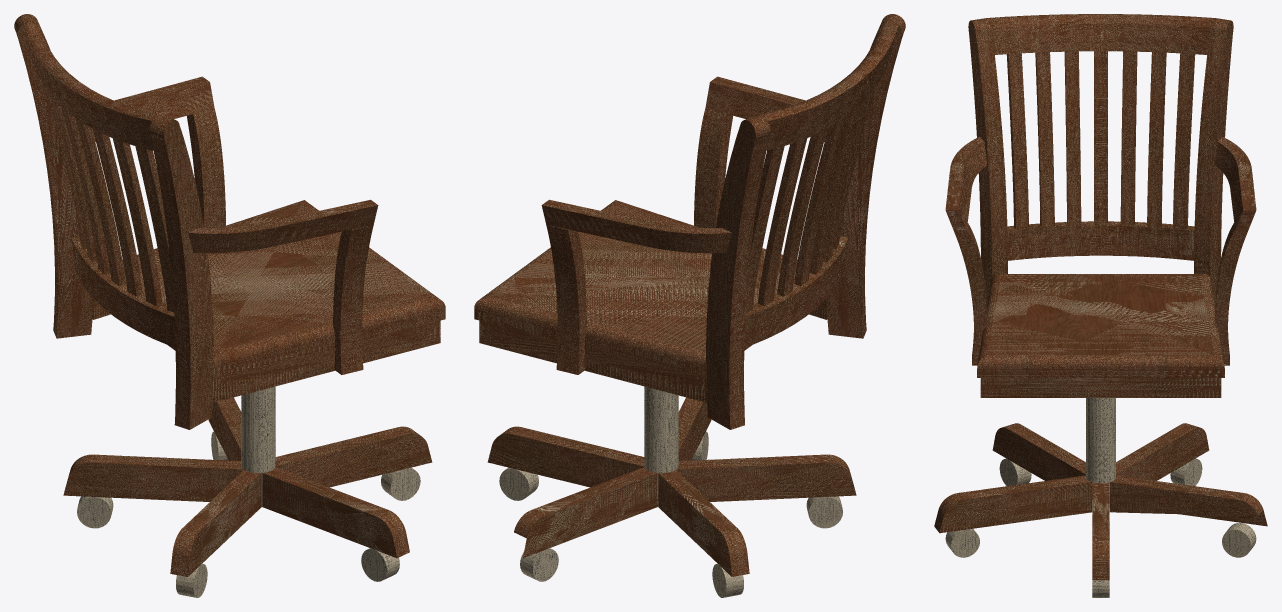
The picture shows the model from 3 angles, left to right: view 1: azimuth 30°, elevation 25°; view 2: azimuth 150°, elevation 25°; view 3: azimuth 270°, elevation 25°; orthographic projection. The views are drawn at different scales.
Visible parts, largest first — view 1: mesh16.001_mesh16-geometry, mesh15.001_mesh15-geometry, mesh3.007_mesh3-geometry, mesh20.001_mesh20-geometry, mesh3.008_mesh3-geometry, mesh3.009_mesh3-geometry, mesh9.001_mesh9-geometry, mesh6.001_mesh6-geometry, mesh8.001_mesh8-geometry, mesh3.010_mesh3-geometry, mesh2.001_mesh2-geometry, mesh10.001_mesh10-geometry (+15 smaller); view 2: mesh16.001_mesh16-geometry, mesh20.001_mesh20-geometry, mesh3.010_mesh3-geometry, mesh15.001_mesh15-geometry, mesh3.006_mesh3-geometry, mesh3.009_mesh3-geometry, mesh9.001_mesh9-geometry, mesh11.001_mesh11-geometry, mesh13.001_mesh13-geometry, mesh3.007_mesh3-geometry, mesh14.001_mesh14-geometry, mesh10.001_mesh10-geometry (+15 smaller); view 3: mesh16.001_mesh16-geometry, mesh9.001_mesh9-geometry, mesh20.001_mesh20-geometry, mesh15.001_mesh15-geometry, mesh10.001_mesh10-geometry, mesh3.008_mesh3-geometry, mesh3.006_mesh3-geometry, mesh19.001_mesh19-geometry, mesh3.010_mesh3-geometry, mesh3.007_mesh3-geometry, mesh1.003_mesh1-geometry, mesh1.006_mesh1-geometry (+15 smaller).
Part boxes in pixels (box(x1,y1,x2,y2)): mesh16.001_mesh16-geometry: box(122, 200, 445, 378); mesh15.001_mesh15-geometry: box(149, 114, 213, 429); mesh3.007_mesh3-geometry: box(63, 454, 243, 501); mesh20.001_mesh20-geometry: box(14, 14, 93, 338); mesh3.008_mesh3-geometry: box(262, 467, 409, 558); mesh3.009_mesh3-geometry: box(275, 426, 432, 487); mesh9.001_mesh9-geometry: box(22, 22, 159, 150); mesh6.001_mesh6-geometry: box(213, 320, 440, 402); mesh8.001_mesh8-geometry: box(188, 199, 378, 253); mesh3.010_mesh3-geometry: box(170, 470, 261, 576); mesh2.001_mesh2-geometry: box(333, 224, 373, 374); mesh10.001_mesh10-geometry: box(71, 236, 175, 347); mesh16.001_mesh16-geometry: box(474, 200, 797, 378); mesh20.001_mesh20-geometry: box(706, 114, 770, 429); mesh3.010_mesh3-geometry: box(676, 454, 856, 501); mesh15.001_mesh15-geometry: box(826, 14, 905, 338); mesh3.006_mesh3-geometry: box(514, 467, 657, 557); mesh3.009_mesh3-geometry: box(487, 426, 644, 487); mesh9.001_mesh9-geometry: box(760, 22, 898, 150); mesh11.001_mesh11-geometry: box(479, 320, 706, 402); mesh13.001_mesh13-geometry: box(541, 199, 731, 253); mesh3.007_mesh3-geometry: box(658, 470, 749, 576); mesh14.001_mesh14-geometry: box(546, 224, 586, 374); mesh10.001_mesh10-geometry: box(744, 236, 848, 347); mesh16.001_mesh16-geometry: box(977, 274, 1224, 377); mesh9.001_mesh9-geometry: box(987, 14, 1214, 55); mesh20.001_mesh20-geometry: box(1194, 18, 1233, 306); mesh15.001_mesh15-geometry: box(968, 18, 1007, 306); mesh10.001_mesh10-geometry: box(1007, 221, 1194, 260); mesh3.008_mesh3-geometry: box(934, 475, 1091, 533); mesh3.006_mesh3-geometry: box(1110, 475, 1267, 526); mesh19.001_mesh19-geometry: box(980, 378, 1221, 397); mesh3.010_mesh3-geometry: box(992, 423, 1085, 480); mesh3.007_mesh3-geometry: box(1116, 423, 1209, 480); mesh1.003_mesh1-geometry: box(1006, 53, 1028, 229); mesh1.006_mesh1-geometry: box(1173, 53, 1195, 229).
Bounding box in the file's own units: 0.5297 × 0.7016 × 0.4766.
